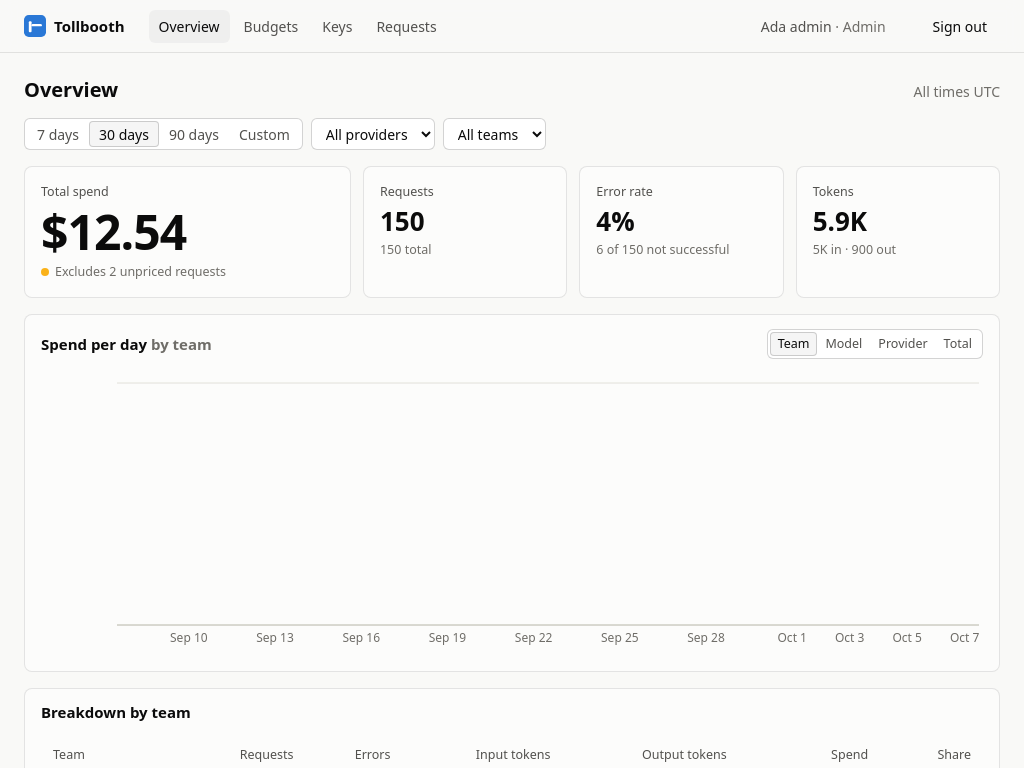
Test: overview › scopes every query to the selected filters
Step 1. Click the button with aria-label "Last 7 days" → (58, 134), box [27,121,89,147]
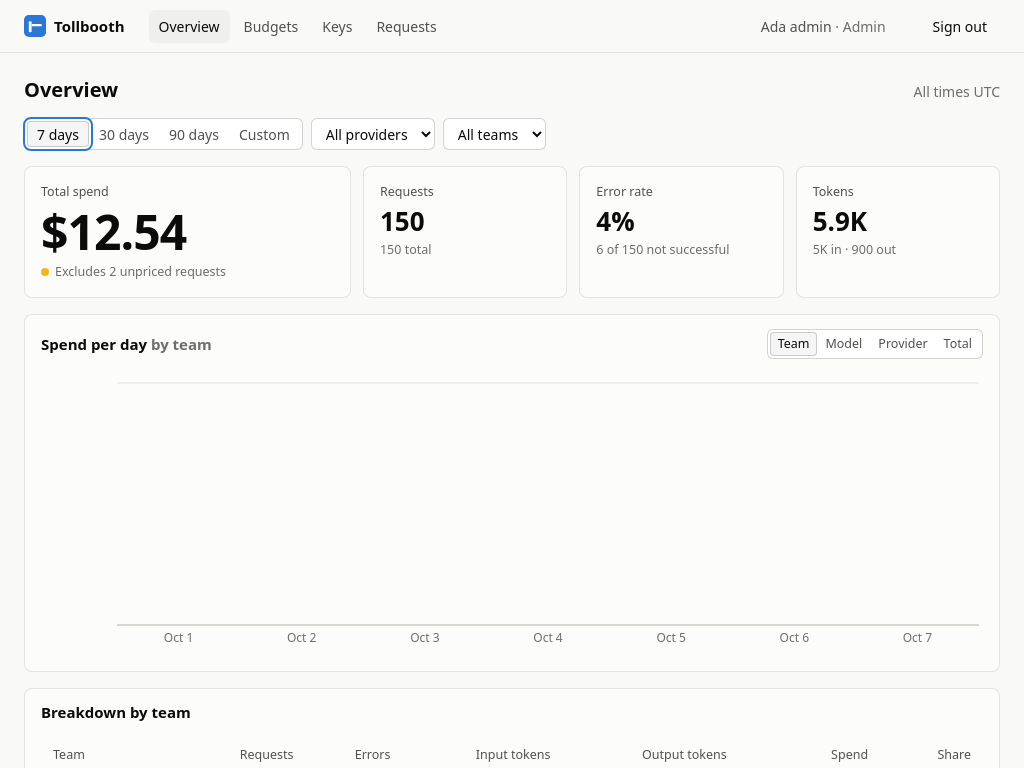
Step 2. Select "Anthropic" in the 1st dropdown named "Provider" → (373, 134), box [311,118,435,150]
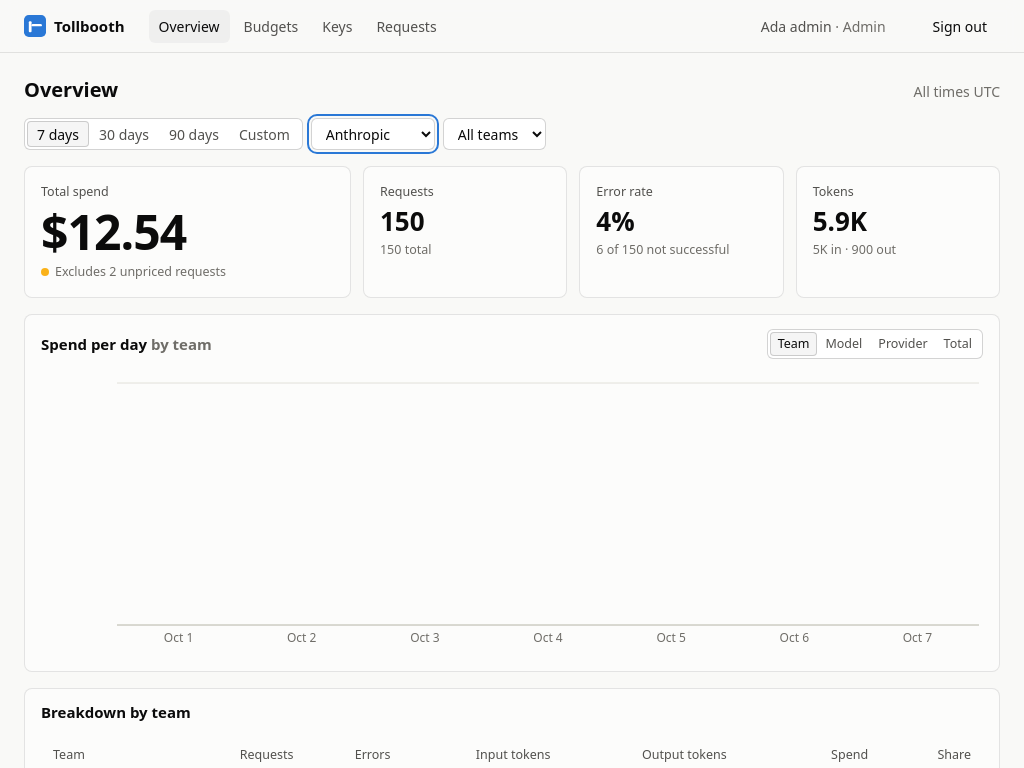
Step 3. Click the button "Model" → (844, 344), box [818,332,870,356]
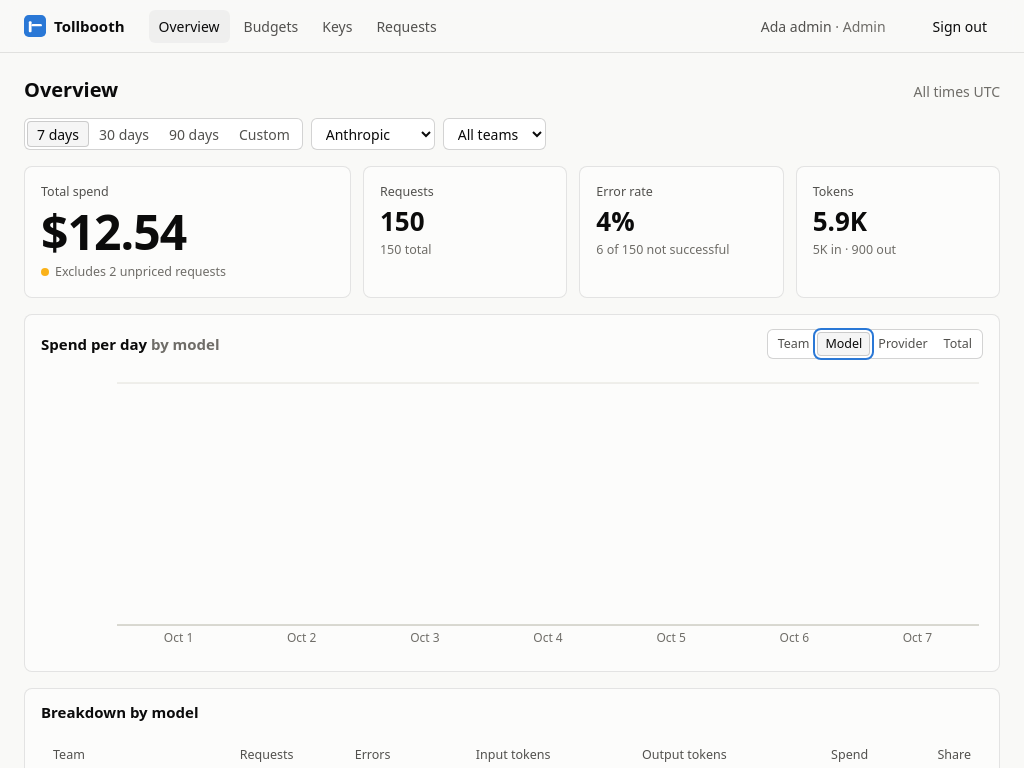
Now the heading "Breakdown by model" is shown, box [41,703,198,722]
